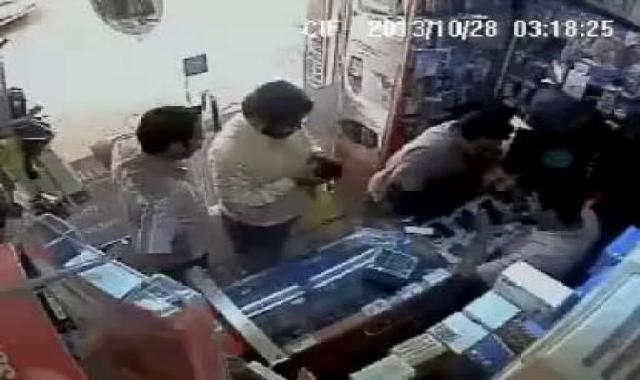no_hairnet: (136, 101, 214, 156), (243, 82, 317, 135)
